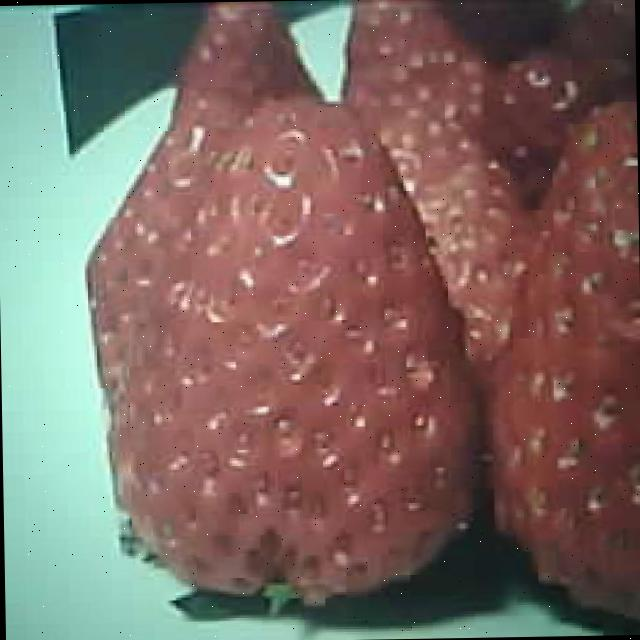strawberry: (128, 100, 480, 600)
